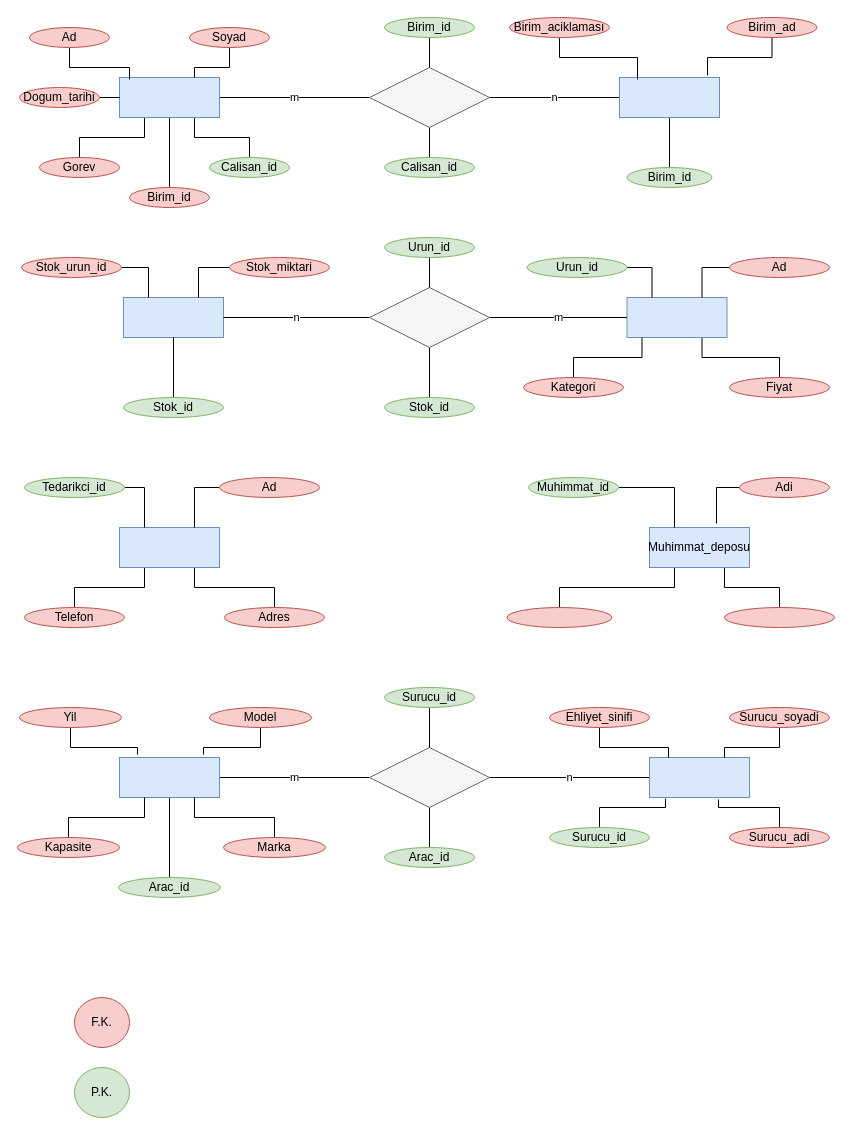
Some shapes in this 852 by 1135 pixel diagram are drawn without their labels. The box of each missing label's shape, as (x1, y1, x2, y2) in pixels:
Arac_suruculeri: (648, 756, 750, 798)
Araclar: (118, 756, 220, 798)
Araclar_arac_suruculeri: (368, 746, 490, 808)
Birimi: (724, 606, 834, 628)
Birimler: (618, 76, 720, 118)
Calisan_Birim_id: (368, 66, 490, 128)
Calisanlar: (118, 76, 220, 118)
Miktari: (506, 606, 612, 628)
Stoklar: (122, 296, 224, 338)
Stoklar_urunler: (368, 286, 490, 348)
Tedarikciler: (118, 526, 220, 568)
Urunler: (626, 296, 727, 338)
